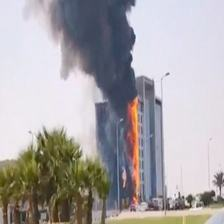fire: (96, 44, 141, 209)
